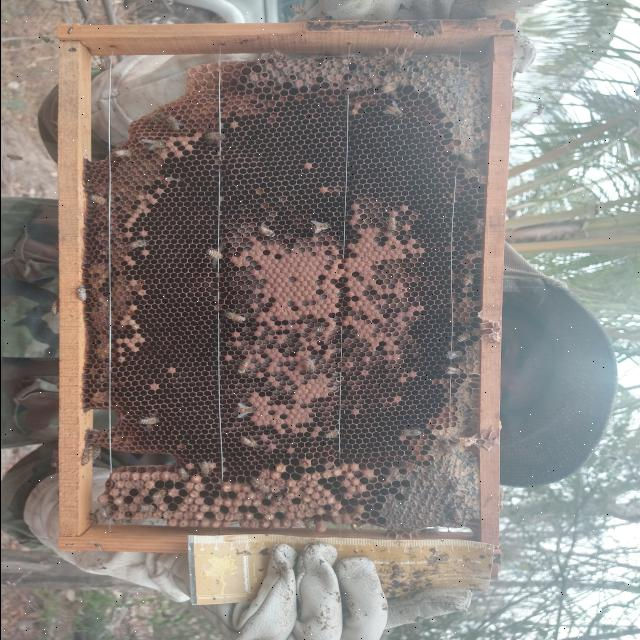cria: (97, 98, 456, 529)
marco: (90, 43, 489, 535)
